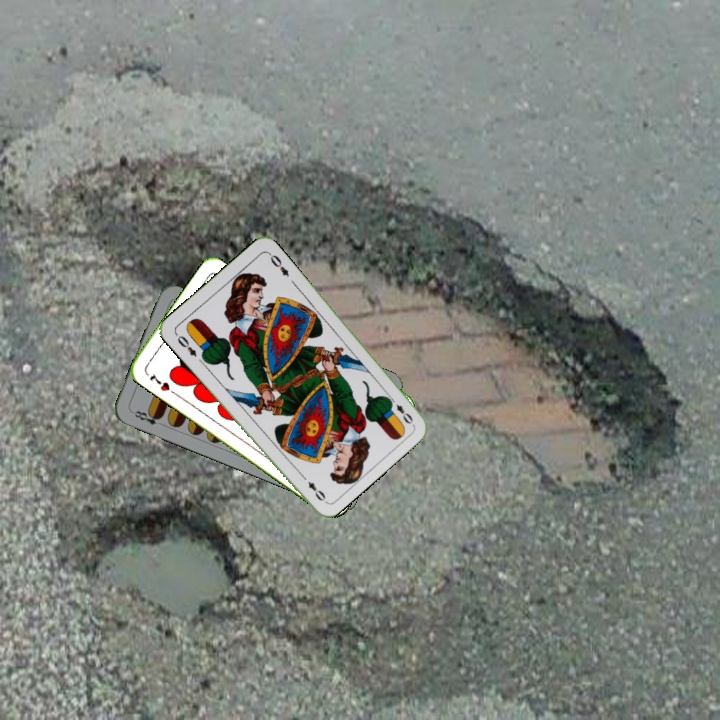E8: (128, 406, 164, 428)
EO: (385, 393, 416, 427), (171, 329, 199, 359)
H7: (145, 369, 172, 394)
